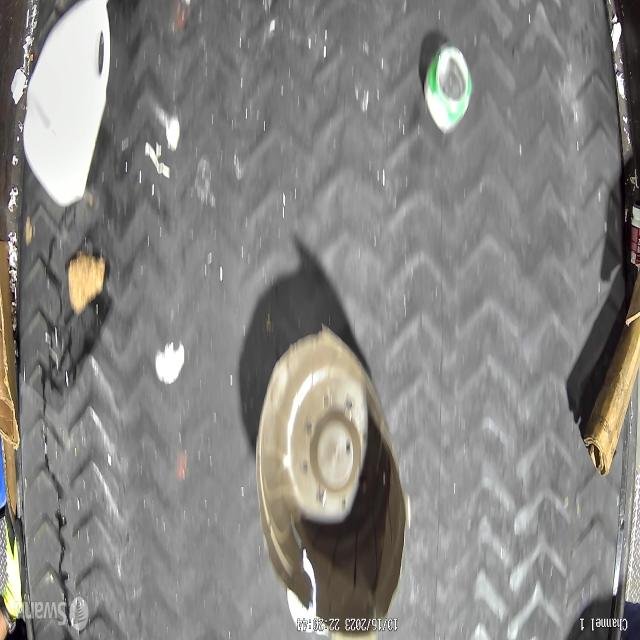can: (421, 38, 473, 136)
milk_jug: (21, 2, 110, 204)
